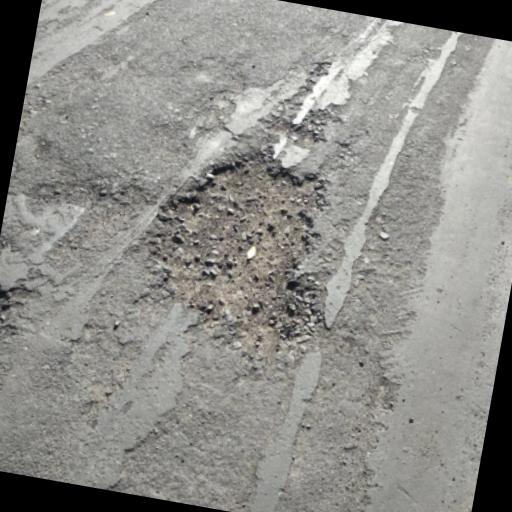pothole: (128, 132, 352, 369)
